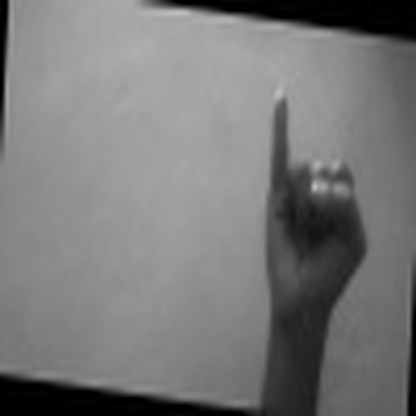i: (243, 75, 375, 300)
